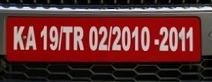0: (138, 25, 150, 51), (87, 24, 98, 50), (168, 24, 178, 52), (120, 26, 130, 51)
1: (38, 24, 47, 50), (177, 25, 186, 51), (185, 25, 194, 51), (130, 25, 139, 50)
2: (157, 24, 169, 50), (110, 25, 121, 50), (97, 25, 107, 50)
9: (47, 24, 58, 50)
A: (24, 24, 37, 51)
K: (10, 24, 24, 50)
R: (72, 24, 84, 50)
T: (60, 24, 72, 49)
